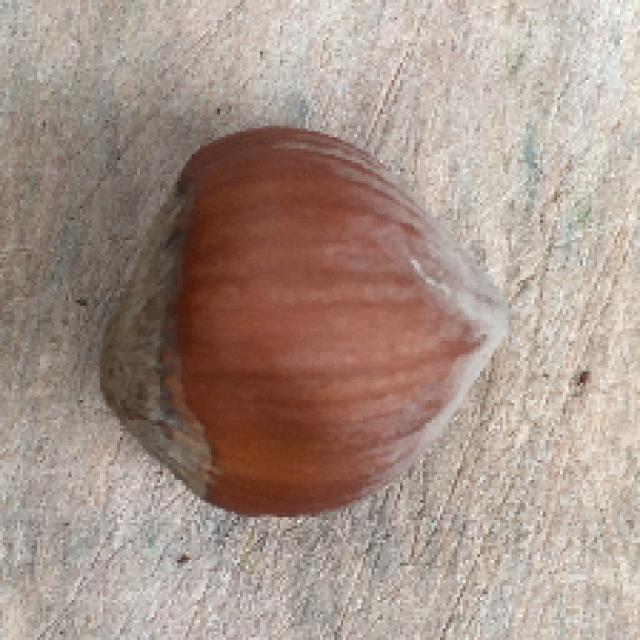qualityHazelnut: (96, 122, 516, 519)
